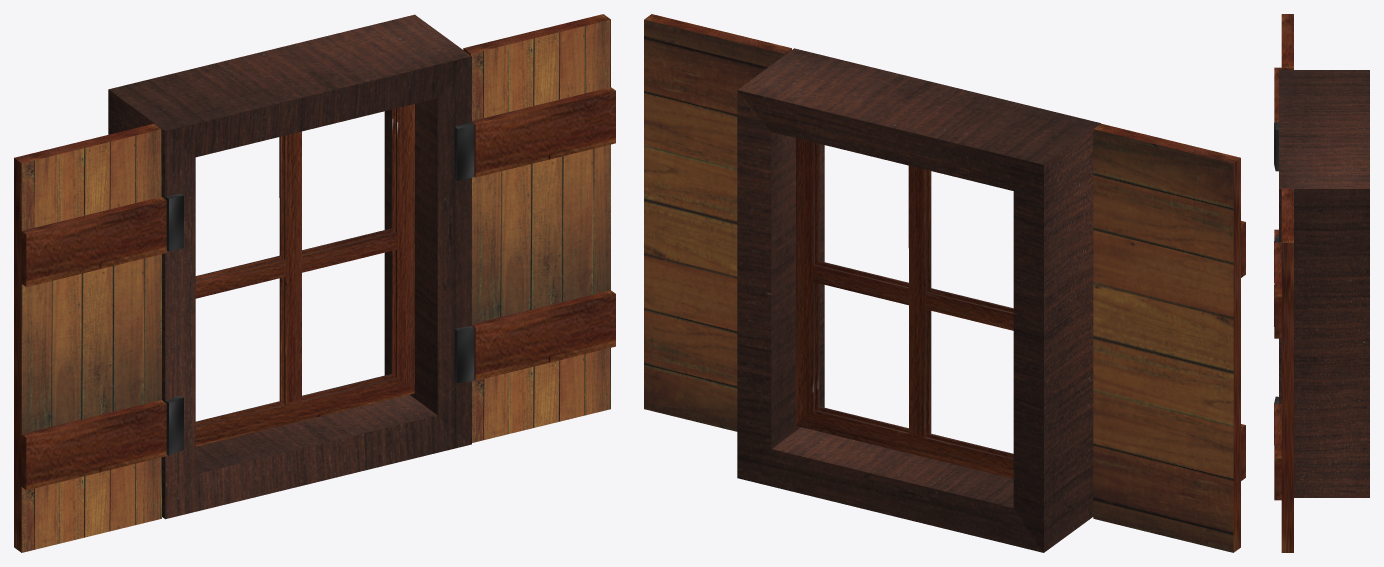
Rendered from Window.fbx.
3 views of the same model, side by side, from view 1: azimuth 30°, elevation 25°; view 2: azimuth 150°, elevation 25°; view 3: azimuth 270°, elevation 25° (orthographic). The views are drawn at different scales.
Parts seen in each view (by area): view 1: Frame3; view 2: Frame3; view 3: Frame3.
Boxes of the visible parts, x1,y1,x2,y2 form: Frame3: (14, 14, 615, 552); Frame3: (644, 14, 1245, 552); Frame3: (1274, 14, 1369, 552).
Size of the model in its own units: 4.92 by 3.11 by 0.8703.
